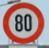Gioi han toc do: (3, 2, 45, 43)
